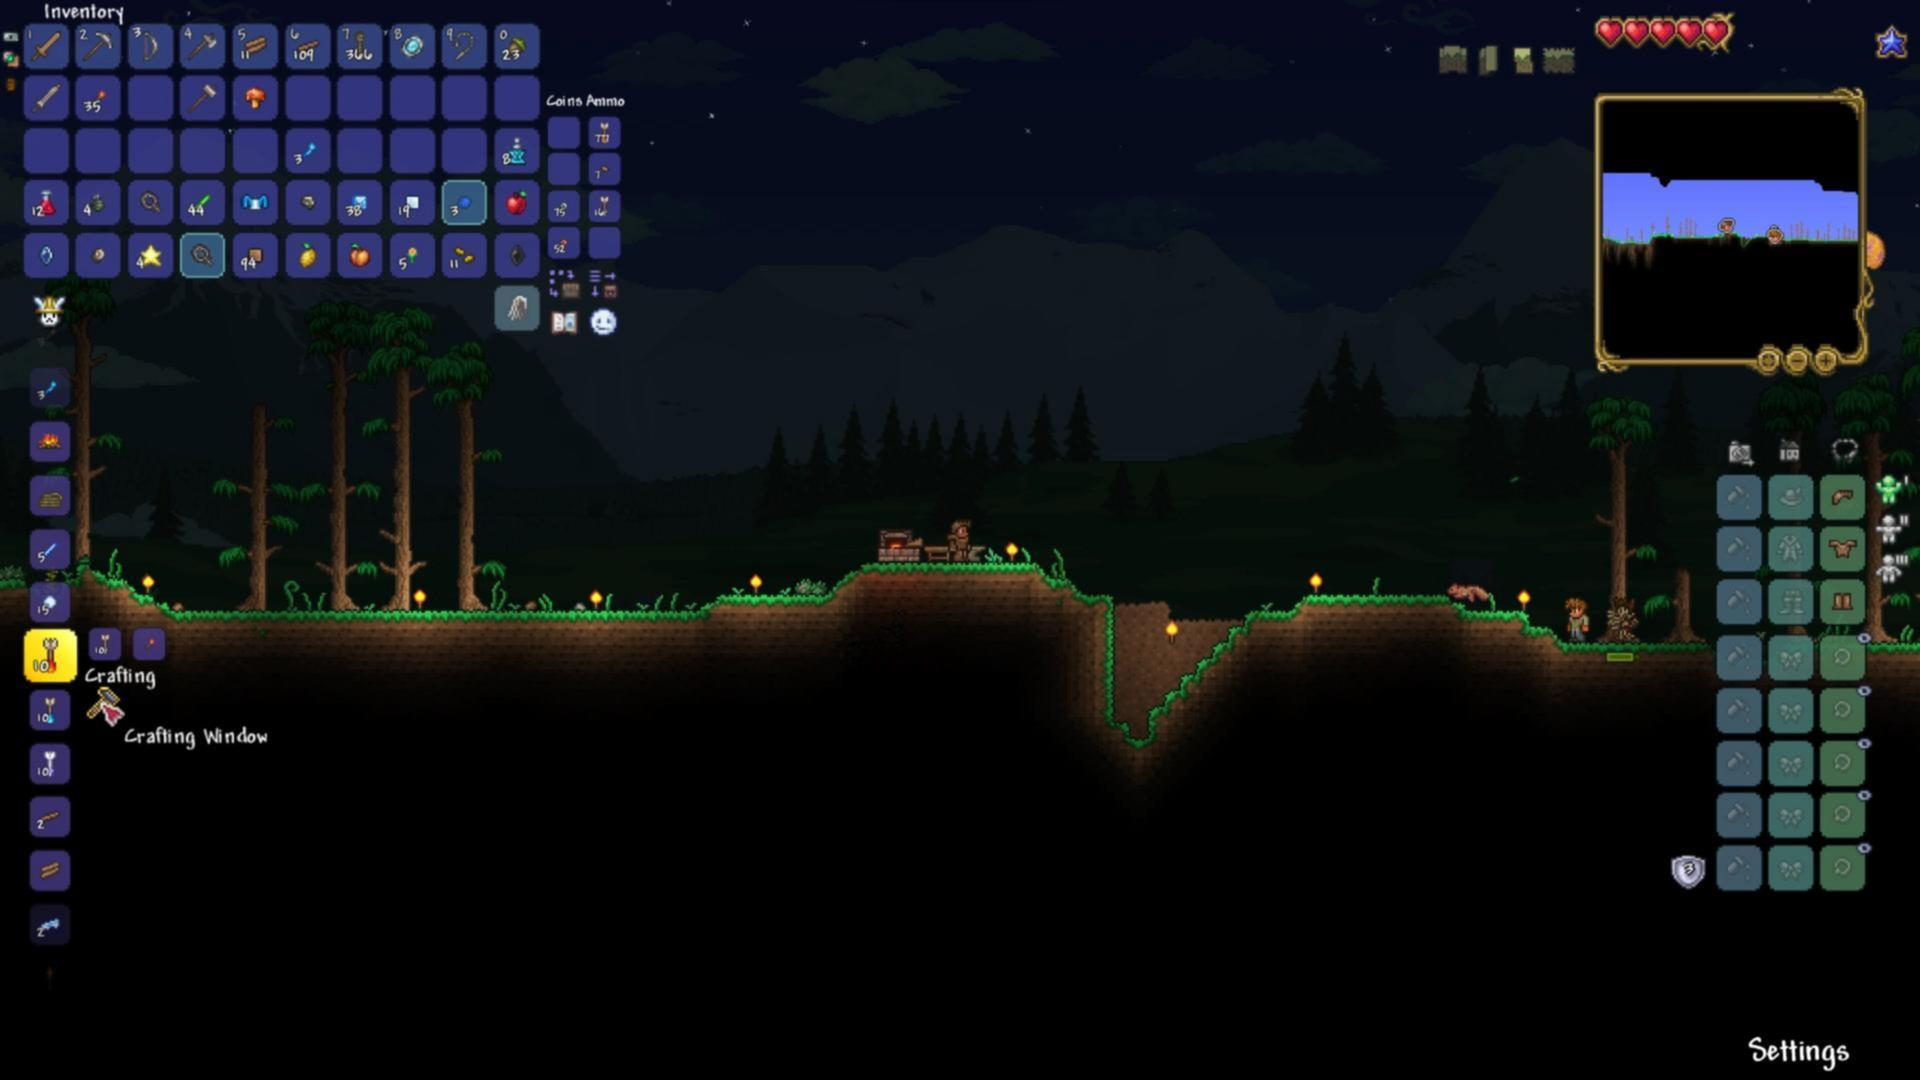furnace: (873, 524, 920, 562)
grenade: (87, 191, 107, 214)
potion: (36, 183, 61, 218)
recallP: (502, 135, 530, 170)
star: (138, 241, 165, 272)
